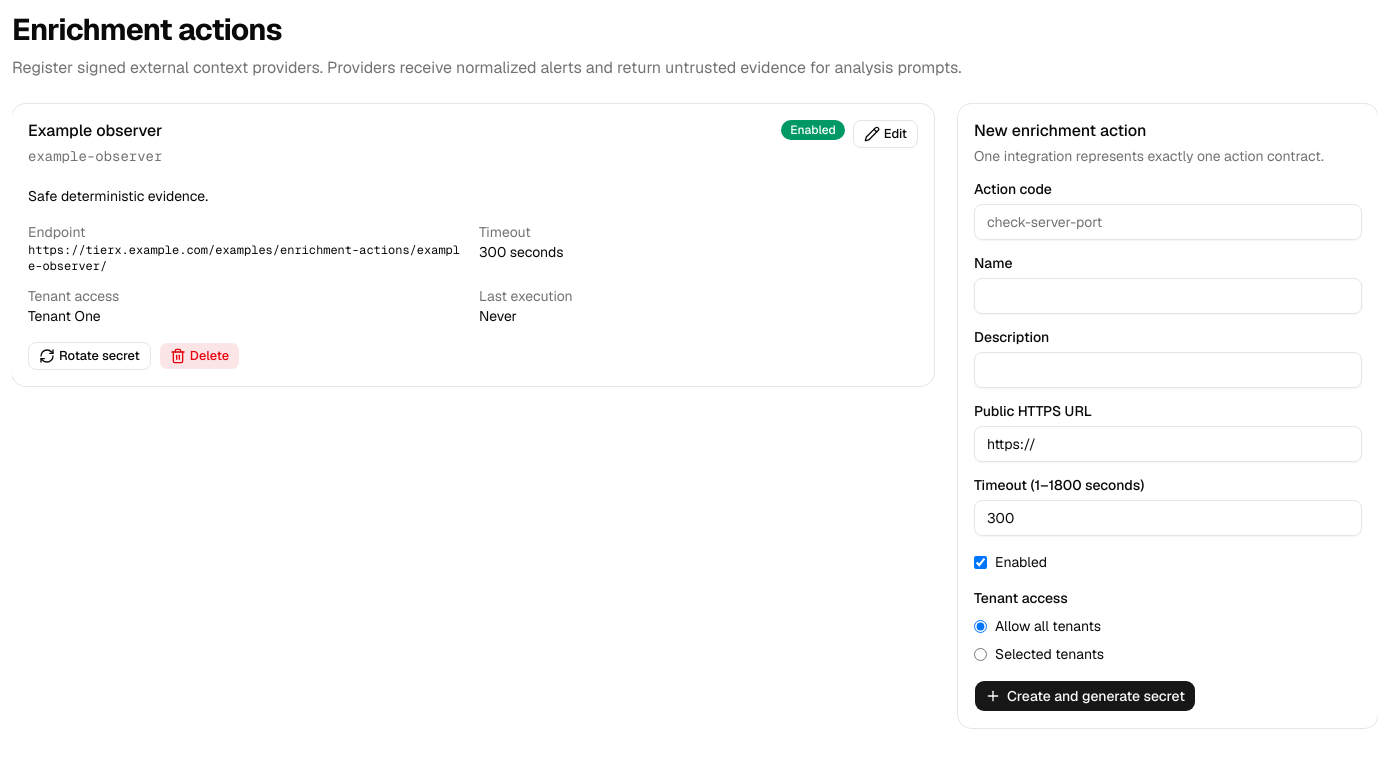
Test: enrichment actions page › shows safe metadata, tenant scope, and the long-timeout warning
This screenshot has width=1378, height=769.
Expected: the text "Example observer" is shown, [28,120,162,142]
Expected: the text "Tenant One" is shown, [28,307,101,325]
Click the button "Edit" at (885,134), box [853,120,918,148]
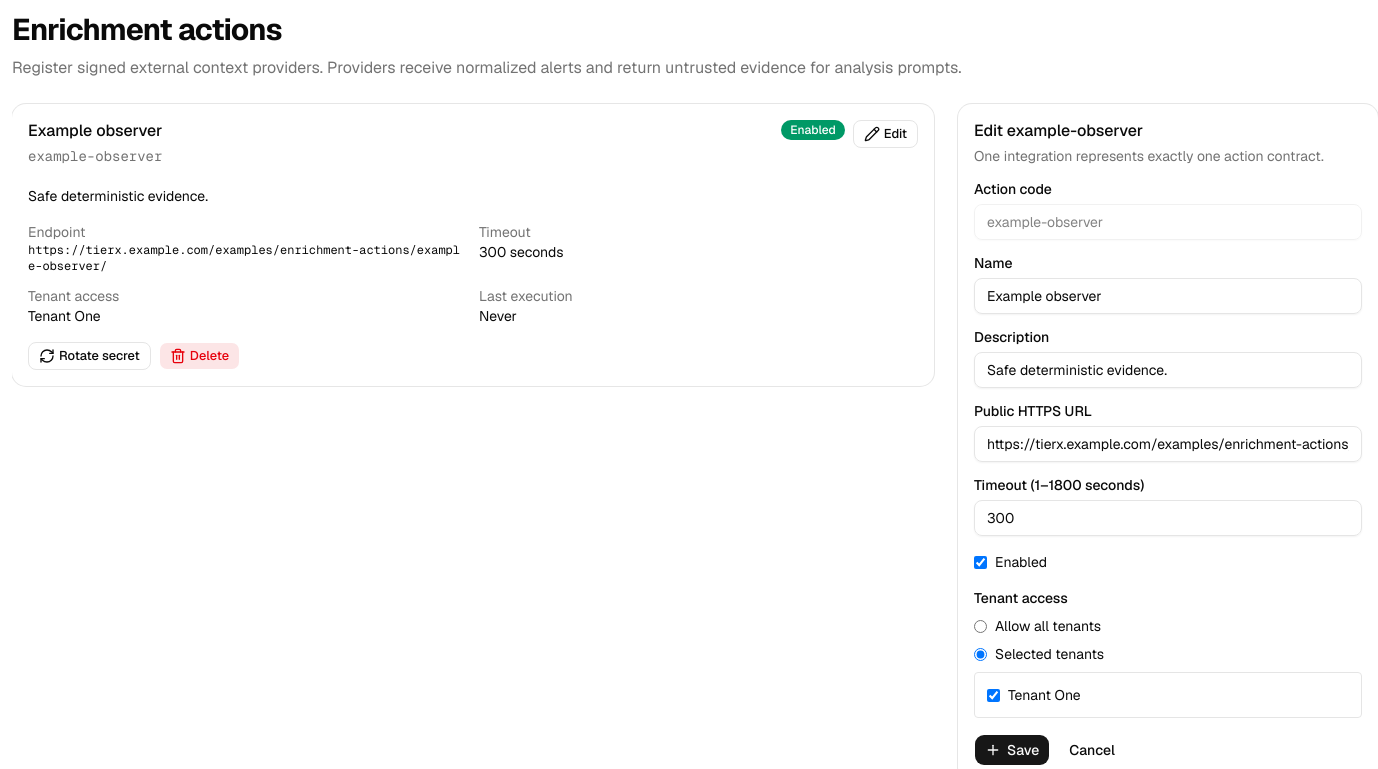
Replace the text in the number field labelled "Timeout (1–1800 seconds)" with "301" at (1168,518), box [974,500,1362,536]
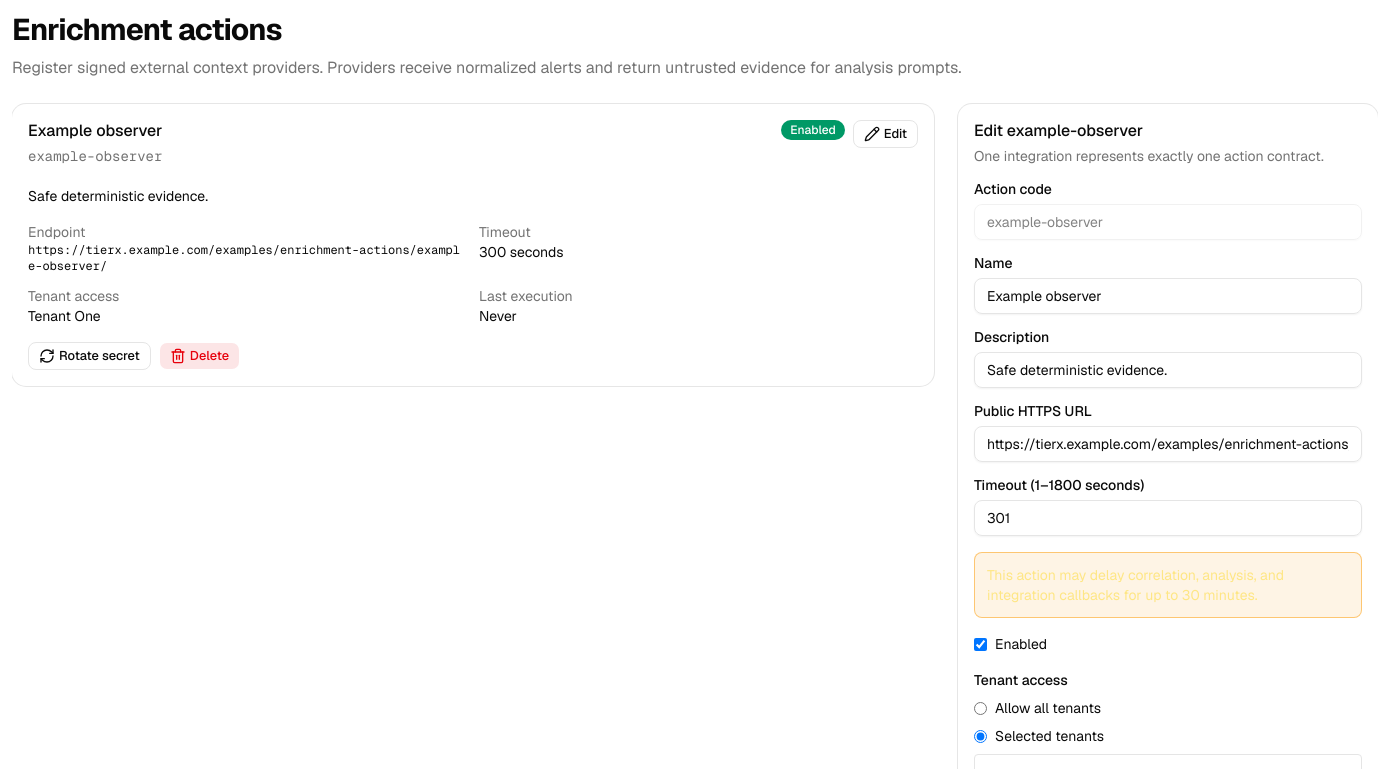
Expected: the text "delay correlation, analysis" is shown, [987,566,1284,604]
